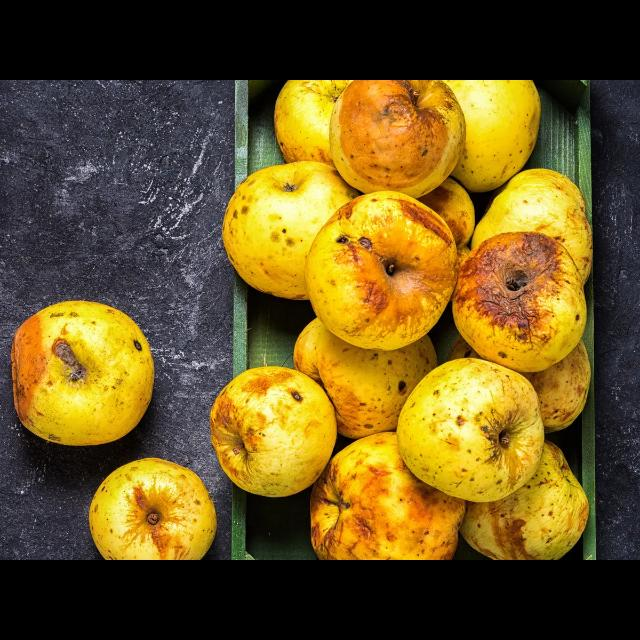Apel Tidak Segar: (302, 80, 496, 224), (308, 196, 470, 368), (9, 289, 180, 449), (449, 210, 607, 382), (385, 358, 557, 509), (207, 161, 376, 305), (200, 360, 352, 506), (65, 442, 235, 560)
